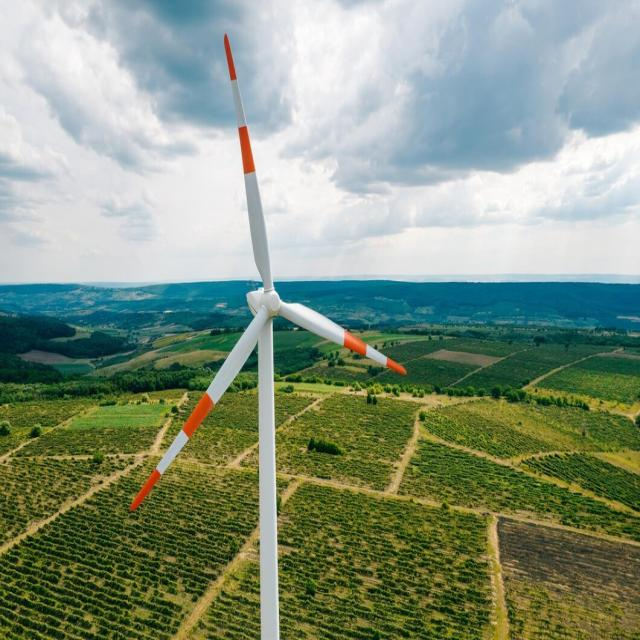solid-blade: (130, 306, 270, 510), (224, 34, 274, 291), (279, 302, 406, 374)
